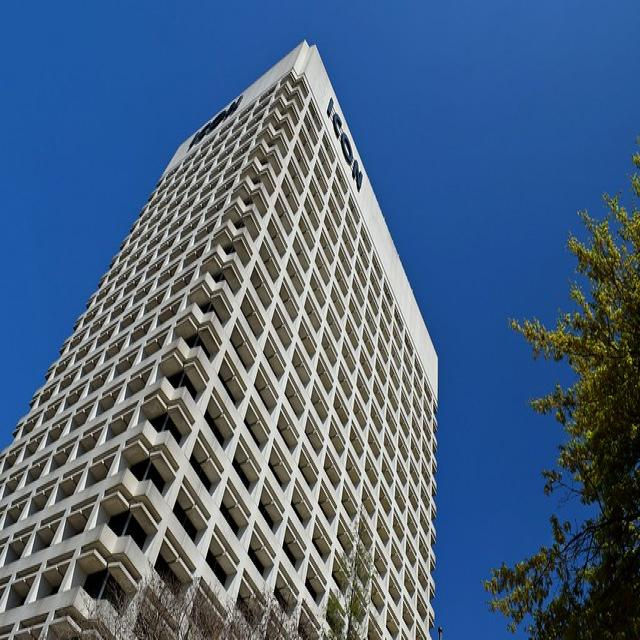Normal_building: (0, 41, 434, 635)
